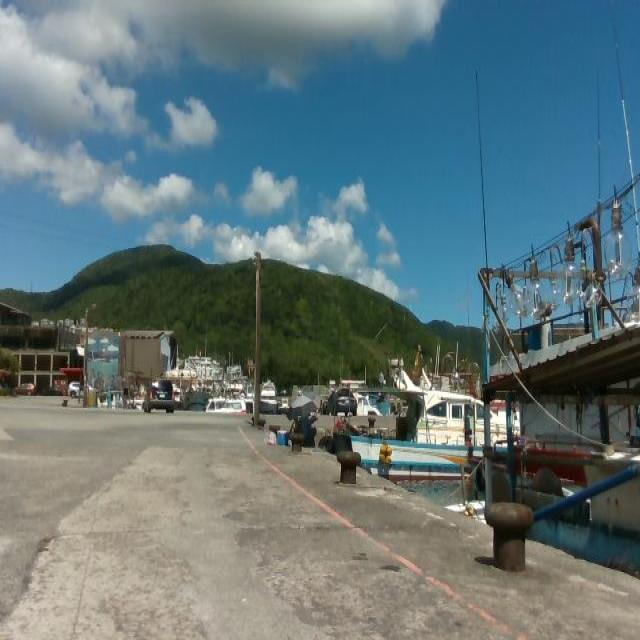pollute: (266, 428, 277, 447)
